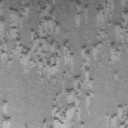oxide scale of temperature system: (0, 0, 74, 82), (51, 28, 110, 128), (108, 7, 128, 64), (110, 104, 128, 128), (74, 0, 88, 28), (96, 0, 114, 21), (2, 100, 10, 128), (42, 118, 46, 124)
